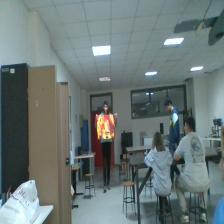fire-poster: (97, 115, 115, 139)
